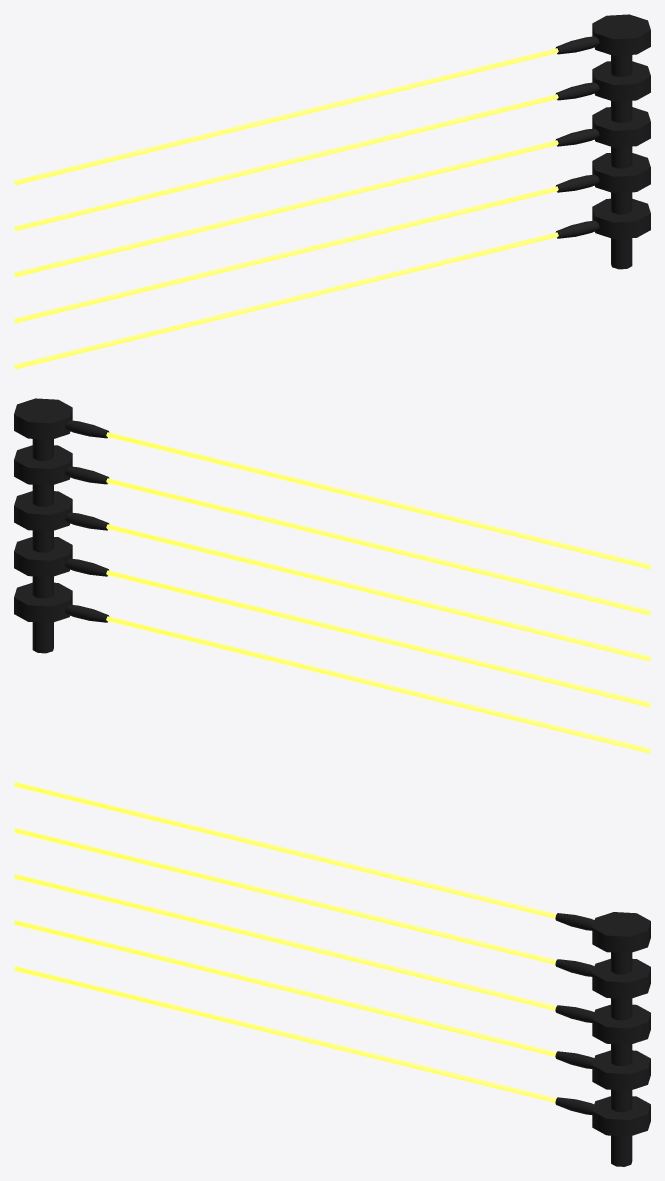
File: Fence_C3.fbx
3 views of the same model, one above another, from view 1: azimuth 30°, elevation 25°; view 2: azimuth 150°, elevation 25°; view 3: azimuth 330°, elevation 25° (orthographic).
Parts seen in each view (by area): view 1: Wire_Fence_C3, Base_Fence_C3, Holder_Fence_C3; view 2: Wire_Fence_C3, Base_Fence_C3, Holder_Fence_C3; view 3: Wire_Fence_C3, Base_Fence_C3, Holder_Fence_C3.
Part boxes in pixels (x1,y1,x2,y2): Wire_Fence_C3: (14, 48, 558, 369); Base_Fence_C3: (592, 14, 650, 269); Holder_Fence_C3: (555, 36, 599, 238); Wire_Fence_C3: (106, 432, 650, 753); Base_Fence_C3: (14, 398, 72, 653); Holder_Fence_C3: (65, 420, 109, 622); Wire_Fence_C3: (14, 782, 556, 1102); Base_Fence_C3: (592, 912, 650, 1166); Holder_Fence_C3: (555, 913, 594, 1114).
Size of the model in its own units: 198 by 71.21 by 16.49.
